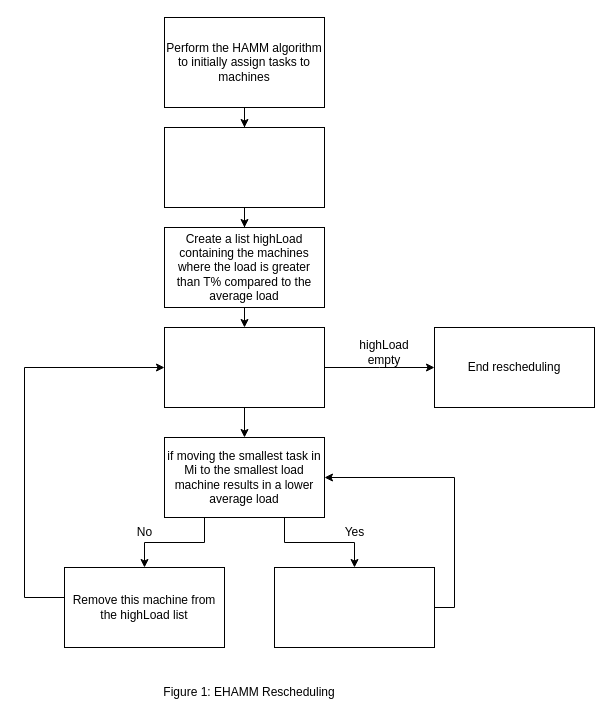
This 612x725 diagram has some shape labels left out. Each missing label, with the centre of its shape:
Find the average load of each machine: (x=244, y=167)
Move the task: (x=354, y=607)
While highLoad is not empty, look at each machine in highLoad: Mi: (x=244, y=367)
